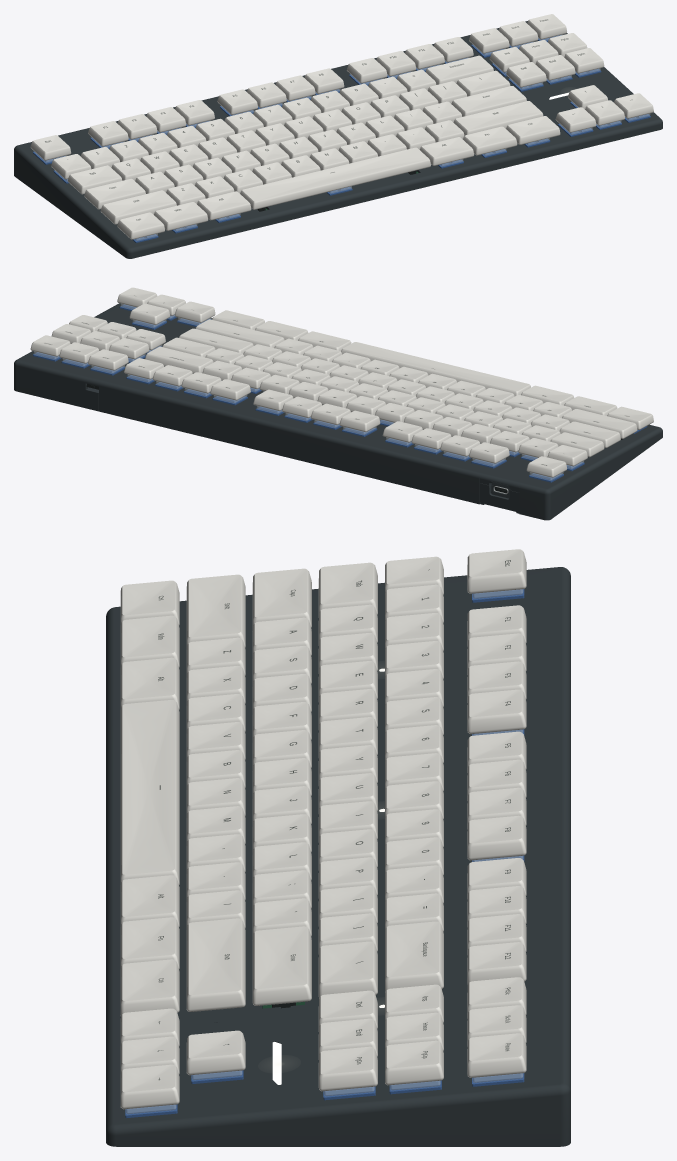
The model's file is v10-xvx-bow-navigation-bar.glb.
3 renders of one model, top to bottom at view 1: azimuth 30°, elevation 25°; view 2: azimuth 150°, elevation 25°; view 3: azimuth 270°, elevation 25°, orthographic. The views are drawn at different scales.
Parts seen in each view (by area): view 1: navigation-lightbar-shell, SW79 XVX Skyline R2 BOW Space keycap, SW70 XVX Skyline R2 BOW Shift keycap, SW64 XVX Skyline R2 BOW Shift keycap, SW57 XVX Skyline R2 BOW Enter keycap, SW31 XVX Skyline R2 BOW Backspace keycap, SW51 XVX Skyline R2 BOW Caps keycap, SW83 XVX Skyline R2 BOW Win keycap, SW78 XVX Skyline R2 BOW Alt keycap, SW84 XVX Skyline R2 BOW Alt keycap, SW80 XVX Skyline R2 BOW Fn keycap, SW81 XVX Skyline R2 BOW Ctrl keycap (+75 smaller); view 2: navigation-lightbar-shell, SW79 XVX Skyline R2 BOW Space keycap, SW70 XVX Skyline R2 BOW Shift keycap, SW31 XVX Skyline R2 BOW Backspace keycap, SW64 XVX Skyline R2 BOW Shift keycap, SW57 XVX Skyline R2 BOW Enter keycap, SW51 XVX Skyline R2 BOW Caps keycap, bezel, SW34 XVX Skyline R2 BOW Tab keycap, SW1 XVX Skyline R2 BOW Esc keycap, SW2 XVX Skyline R2 BOW F1 keycap, SW76 XVX Skyline R2 BOW ↑ keycap (+77 smaller); view 3: navigation-lightbar-shell, SW79 XVX Skyline R2 BOW Space keycap, SW70 XVX Skyline R2 BOW Shift keycap, SW57 XVX Skyline R2 BOW Enter keycap, SW64 XVX Skyline R2 BOW Shift keycap, SW31 XVX Skyline R2 BOW Backspace keycap, SW51 XVX Skyline R2 BOW Caps keycap, SW81 XVX Skyline R2 BOW Ctrl keycap, SW41 XVX Skyline R2 BOW \ keycap, SW83 XVX Skyline R2 BOW Win keycap, SW78 XVX Skyline R2 BOW Alt keycap, SW80 XVX Skyline R2 BOW Fn keycap (+75 smaller).
Part boxes in pixels (<box>): navigation-lightbar-shell: <box>14,21,662,258</box>; SW79 XVX Skyline R2 BOW Space keycap: <box>240,147,430,209</box>; SW70 XVX Skyline R2 BOW Shift keycap: <box>453,101,543,135</box>; SW64 XVX Skyline R2 BOW Shift keycap: <box>100,190,176,224</box>; SW57 XVX Skyline R2 BOW Enter keycap: <box>451,86,526,116</box>; SW31 XVX Skyline R2 BOW Backspace keycap: <box>426,55,493,84</box>; SW51 XVX Skyline R2 BOW Caps keycap: <box>84,178,145,209</box>; SW83 XVX Skyline R2 BOW Win keycap: <box>154,202,208,230</box>; SW78 XVX Skyline R2 BOW Alt keycap: <box>197,191,251,220</box>; SW84 XVX Skyline R2 BOW Alt keycap: <box>420,137,474,165</box>; SW80 XVX Skyline R2 BOW Fn keycap: <box>463,126,517,155</box>; SW81 XVX Skyline R2 BOW Ctrl keycap: <box>506,116,560,144</box>; navigation-lightbar-shell: <box>14,303,662,520</box>; SW79 XVX Skyline R2 BOW Space keycap: <box>341,342,530,396</box>; SW70 XVX Skyline R2 BOW Shift keycap: <box>195,319,284,347</box>; SW31 XVX Skyline R2 BOW Backspace keycap: <box>145,346,213,373</box>; SW64 XVX Skyline R2 BOW Shift keycap: <box>562,409,637,438</box>; SW57 XVX Skyline R2 BOW Enter keycap: <box>179,328,253,353</box>; SW51 XVX Skyline R2 BOW Caps keycap: <box>559,421,620,447</box>; bezel: <box>480,483,519,511</box>; SW34 XVX Skyline R2 BOW Tab keycap: <box>550,432,604,457</box>; SW1 XVX Skyline R2 BOW Esc keycap: <box>526,456,567,477</box>; SW2 XVX Skyline R2 BOW F1 keycap: <box>469,442,509,463</box>; SW76 XVX Skyline R2 BOW ↑ keycap: <box>129,303,169,324</box>; navigation-lightbar-shell: <box>106,567,570,1146</box>; SW79 XVX Skyline R2 BOW Space keycap: <box>120,700,179,884</box>; SW70 XVX Skyline R2 BOW Shift keycap: <box>186,918,245,1011</box>; SW57 XVX Skyline R2 BOW Enter keycap: <box>252,926,311,1005</box>; SW64 XVX Skyline R2 BOW Shift keycap: <box>186,574,245,649</box>; SW31 XVX Skyline R2 BOW Backspace keycap: <box>385,921,443,992</box>; SW51 XVX Skyline R2 BOW Caps keycap: <box>252,568,311,631</box>; SW81 XVX Skyline R2 BOW Ctrl keycap: <box>120,959,179,1015</box>; SW41 XVX Skyline R2 BOW \ keycap: <box>318,941,377,998</box>; SW83 XVX Skyline R2 BOW Win keycap: <box>120,615,179,667</box>; SW78 XVX Skyline R2 BOW Alt keycap: <box>120,657,179,709</box>; SW80 XVX Skyline R2 BOW Fn keycap: <box>120,917,179,969</box>.
Size of the model in its own units: 356 by 26.05 by 133.
103 materials, 87 textured.
